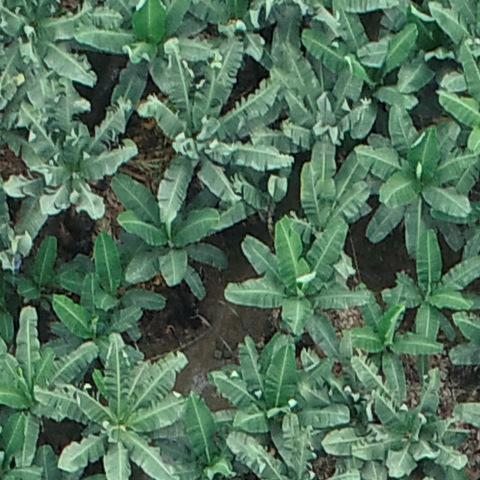Banana-plant: (121, 30, 296, 223), (29, 324, 182, 480), (204, 330, 352, 480), (263, 42, 391, 206), (224, 212, 369, 354), (352, 102, 480, 261), (107, 154, 237, 307), (320, 355, 479, 480), (0, 87, 139, 224), (2, 294, 98, 480), (0, 0, 129, 117), (338, 279, 444, 410), (378, 226, 480, 358), (301, 0, 421, 93), (58, 230, 169, 321), (3, 221, 76, 306), (46, 293, 143, 355)
